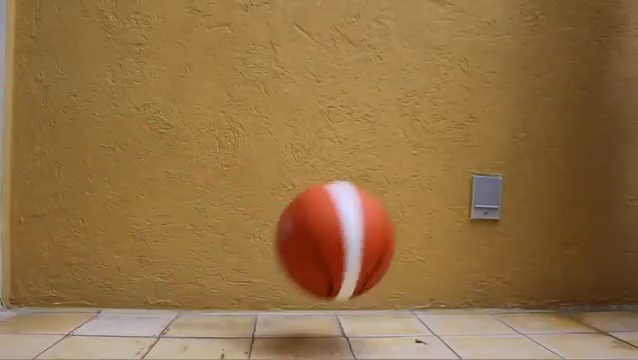ball: (275, 181, 396, 301)
